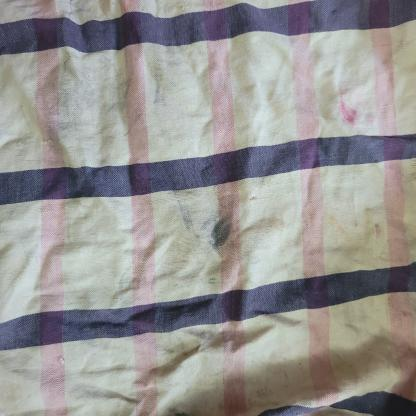spot: (49, 60, 128, 142), (178, 198, 239, 259), (340, 89, 368, 130), (151, 44, 168, 106), (64, 0, 100, 19), (162, 54, 192, 70), (358, 345, 362, 356), (349, 362, 354, 369), (368, 346, 371, 353)
